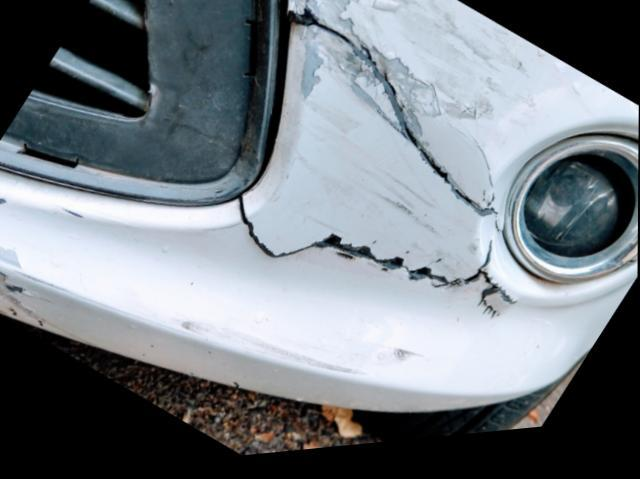crack: (236, 12, 519, 329)
scratch: (292, 0, 545, 141), (180, 323, 422, 385), (0, 247, 61, 335)
